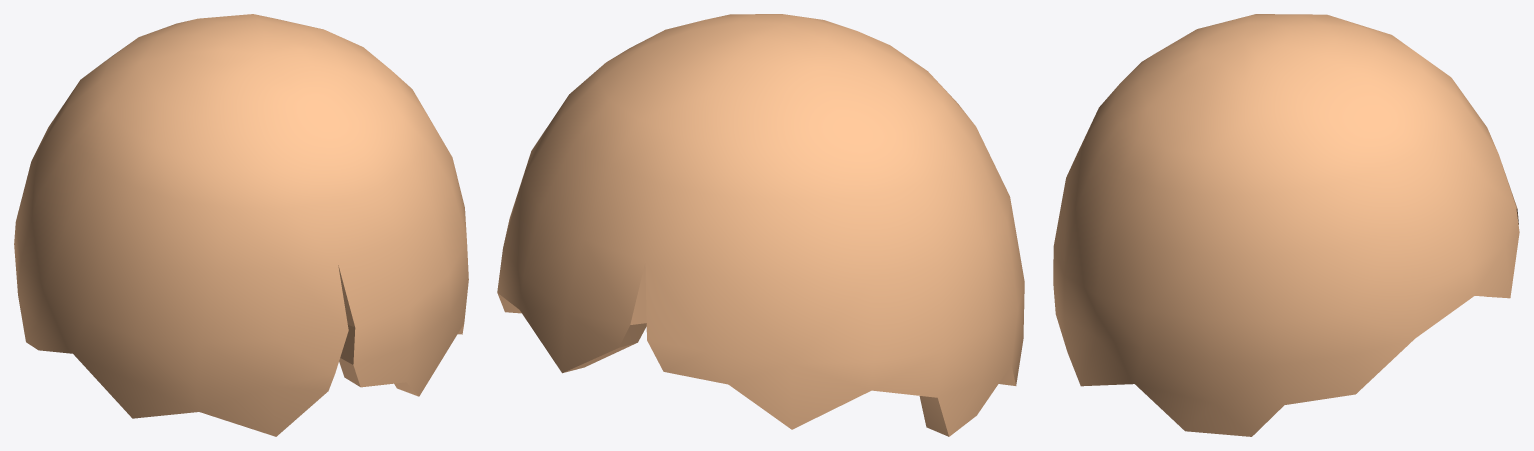
The model's file is IG_Helmat_Egg.fbx.
3 views of the same model, side by side, from view 1: azimuth 30°, elevation 25°; view 2: azimuth 150°, elevation 25°; view 3: azimuth 270°, elevation 25° (orthographic). The views are drawn at different scales.
Parts seen in each view (by area): view 1: Helmets_EggShell; view 2: Helmets_EggShell; view 3: Helmets_EggShell.
Part boxes in pixels (x1,y1,x2,y2): Helmets_EggShell: [14, 14, 468, 436]; Helmets_EggShell: [497, 14, 1024, 436]; Helmets_EggShell: [1053, 14, 1519, 436].
Size of the model in its own units: 0.6339 by 0.4733 by 0.6303.
